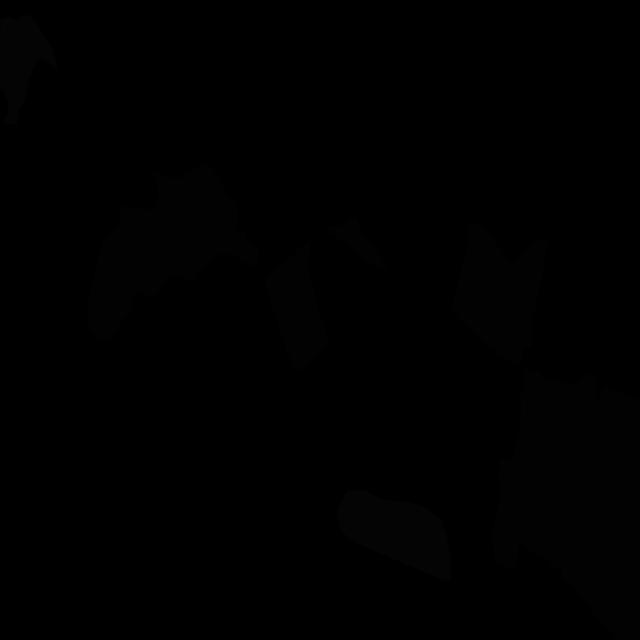cardboard: (520, 369, 640, 640), (87, 164, 259, 342), (451, 222, 549, 365), (492, 388, 543, 568), (264, 240, 329, 372), (325, 217, 387, 271)
soft_plastic: (336, 490, 451, 581), (0, 15, 58, 124)
